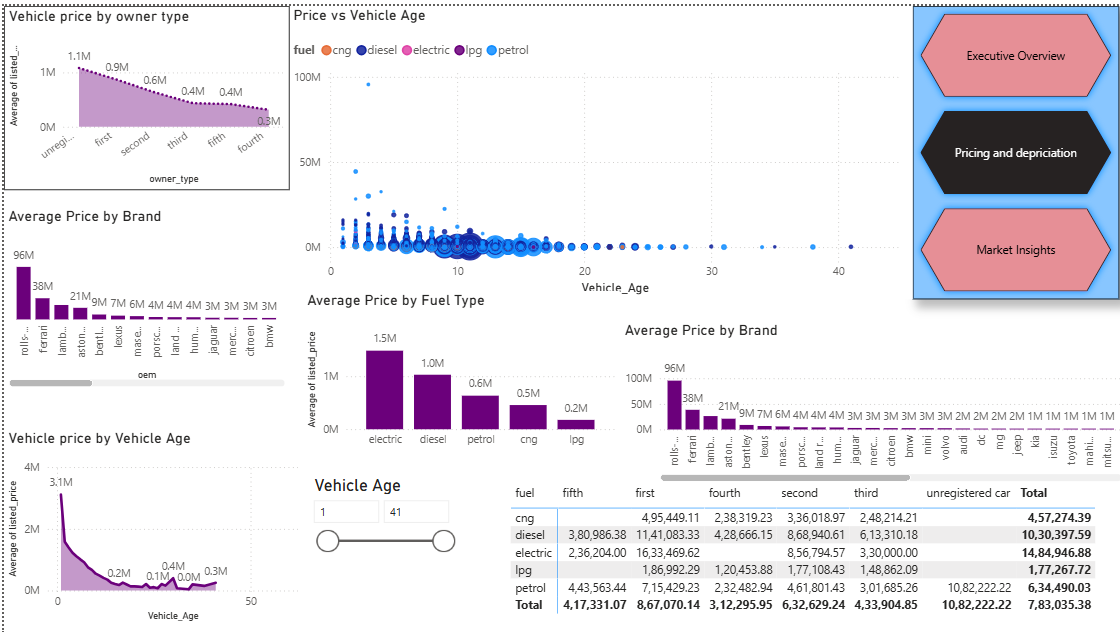

Layout of this report page (visuals, bound fields, positions):
{"tool":"powerbi","page":{"name":"Pricing and depriciation","canvas":[1280,720],"ordinal":1},"visuals":[{"type":"pageNavigator","box":[1038.8,0,236.2,335],"z":0},{"type":"scatterChart","title":"Price vs Vehicle Age","fields":{"X":["Clean_data.Vehicle_Age"],"Y":["Clean_data.listed_price"],"Size":["Sum(Clean_data.km)"],"Series":["Clean_data.fuel"]},"box":[326.2,0,712.5,335],"z":1000},{"type":"lineChart","title":"Vehicle price by owner type","fields":{"Y":["Avg(Clean_data.listed_price)"],"Category":["Clean_data.owner_type"]},"box":[0,0,326.2,210],"z":2000},{"type":"columnChart","title":"Average Price by Brand","fields":{"Category":["Clean_data.oem"],"Y":["Avg(Clean_data.listed_price)"]},"box":[0,230,326,210],"z":3000},{"type":"columnChart","title":"Average Price by Fuel Type","fields":{"Category":["Clean_data.fuel"],"Y":["Avg(Clean_data.listed_price)"]},"box":[342,326,362,188],"z":4000},{"type":"pivotTable","fields":{"Rows":["Clean_data.fuel"],"Columns":["Clean_data.owner_type"],"Values":["Clean_data.Avg price listed"]},"box":[574,540,706,180],"z":5000},{"type":"lineChart","title":"Vehicle price by Vehicle Age","fields":{"Y":["Avg(Clean_data.listed_price)"],"Category":["Clean_data.Vehicle_Age"]},"box":[0,482.5,341.2,225],"z":6000},{"type":"slicer","fields":{"Values":["Clean_data.Vehicle_Age"]},"box":[342,532,182,188],"z":7000},{"type":"columnChart","title":"Average Price by Brand","fields":{"Category":["Clean_data.oem"],"Y":["Avg(Clean_data.listed_price)"]},"box":[704,360,578,188],"z":8000}]}

Visuals, with their boxes in screenshot pixels (x1, y1, x2, y2), scaled from the page's 1280x720 canvas onto the 1120x632 screenshot:
pageNavigator: Rect(909, 0, 1116, 294)
"Price vs Vehicle Age" scatterChart: Rect(285, 0, 909, 294)
"Vehicle price by owner type" lineChart: Rect(0, 0, 285, 184)
"Average Price by Brand" columnChart: Rect(0, 202, 285, 386)
"Average Price by Fuel Type" columnChart: Rect(299, 286, 616, 451)
pivotTable - Clean_data.fuel x Clean_data.owner_type: Rect(502, 474, 1119, 631)
"Vehicle price by Vehicle Age" lineChart: Rect(0, 424, 299, 621)
slicer - Clean_data.Vehicle_Age: Rect(299, 467, 458, 631)
"Average Price by Brand" columnChart: Rect(616, 316, 1119, 481)
